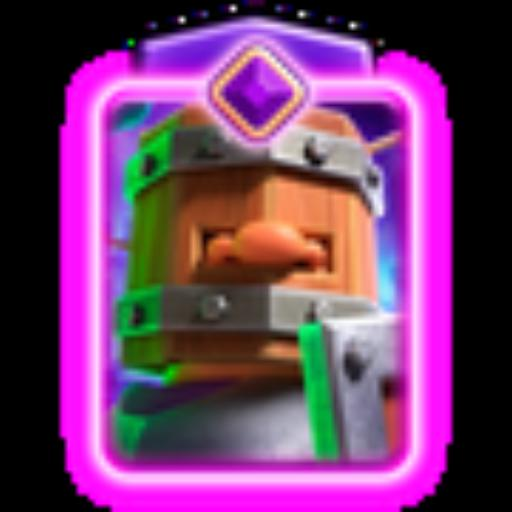royal-recruits-evo: (94, 92, 412, 472)
